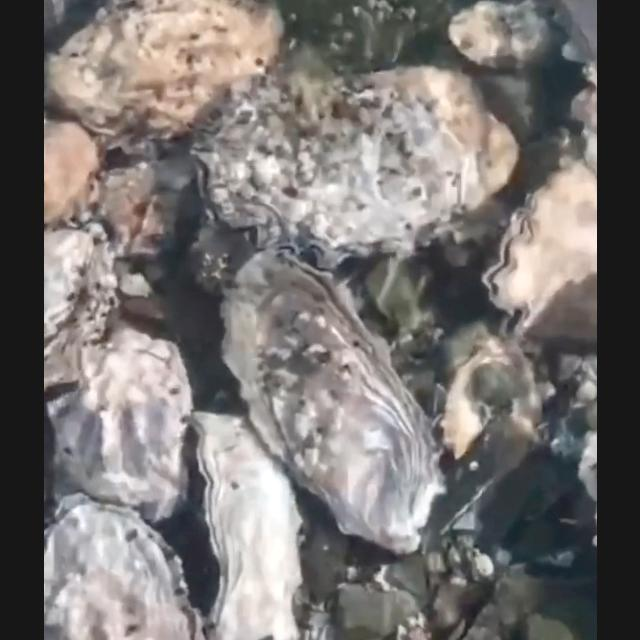Oyster-Closed: (43, 0, 284, 160), (48, 326, 190, 524), (183, 414, 301, 640), (42, 504, 196, 640), (43, 223, 117, 395), (445, 1, 551, 76), (43, 116, 101, 226)
Oyster-Open: (188, 64, 522, 276), (219, 250, 449, 556), (482, 153, 596, 343)
